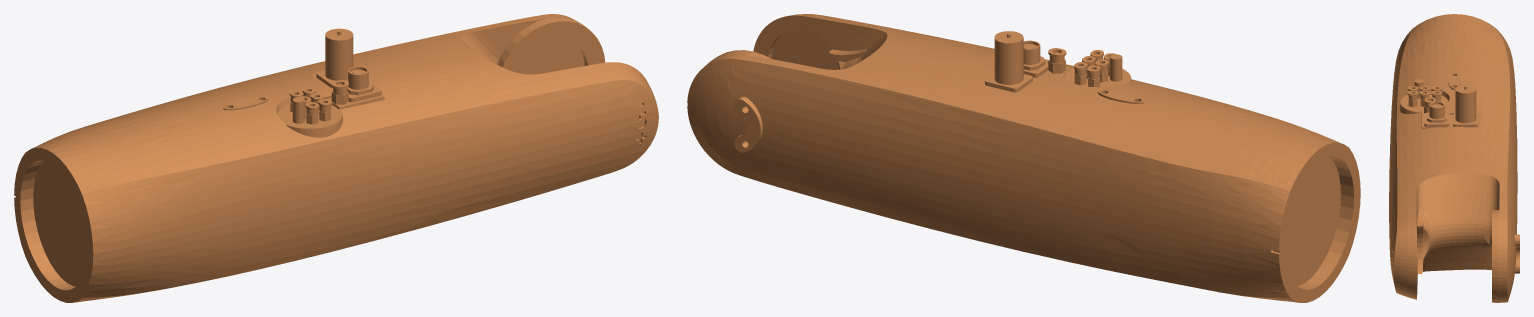
3 views of the same model, side by side, from view 1: azimuth 30°, elevation 25°; view 2: azimuth 150°, elevation 25°; view 3: azimuth 270°, elevation 25° (orthographic). The views are drawn at different scales.
Visible parts, largest first — view 1: Link_4; view 2: Link_4; view 3: Link_4.
Part boxes in pixels (box(x1,y1,x2,y2)): Link_4: box(14, 14, 658, 302); Link_4: box(687, 14, 1360, 302); Link_4: box(1389, 14, 1519, 302).
Bounding box in the file's own units: 0.4504 × 0.1192 × 0.1427.
